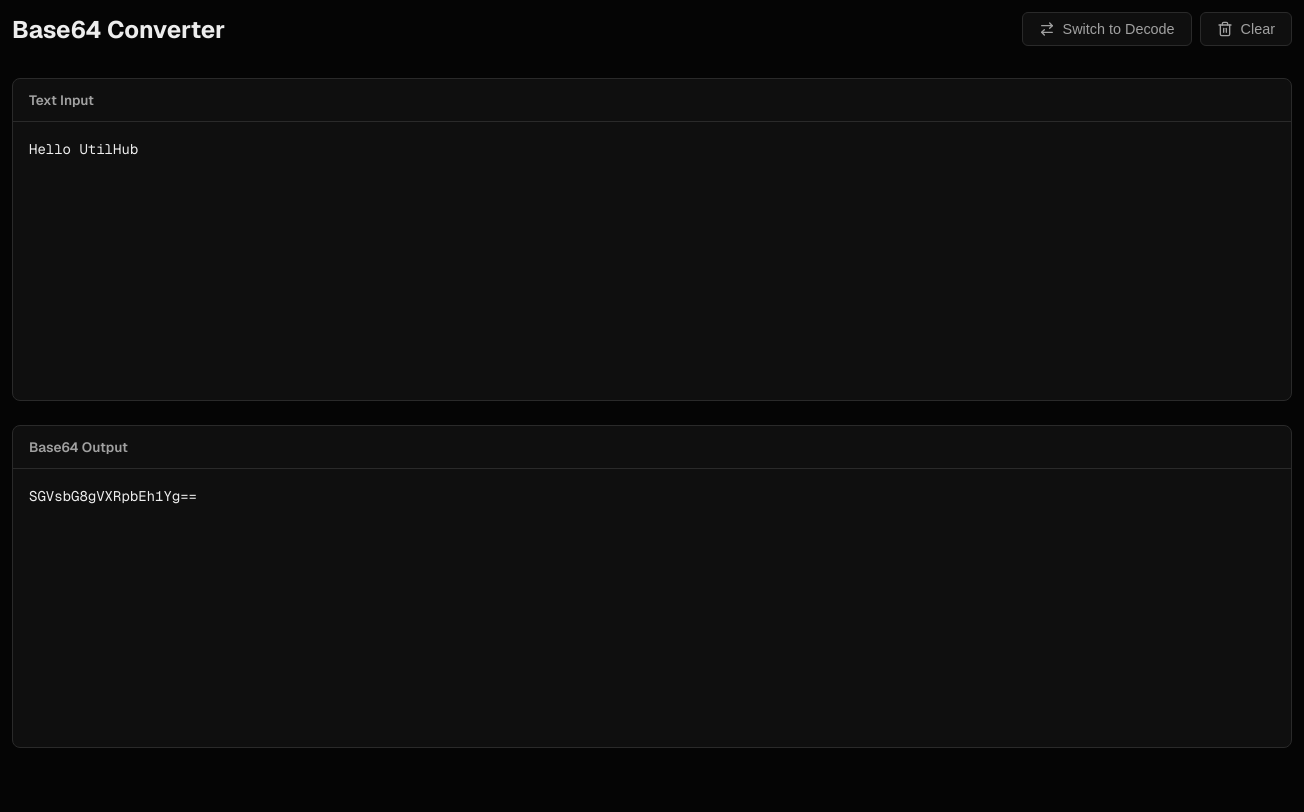
Scenario: Base64Tool › clears input and output on clear
Click the button titled "Clear" at (1246, 29), box [1200, 12, 1292, 46]
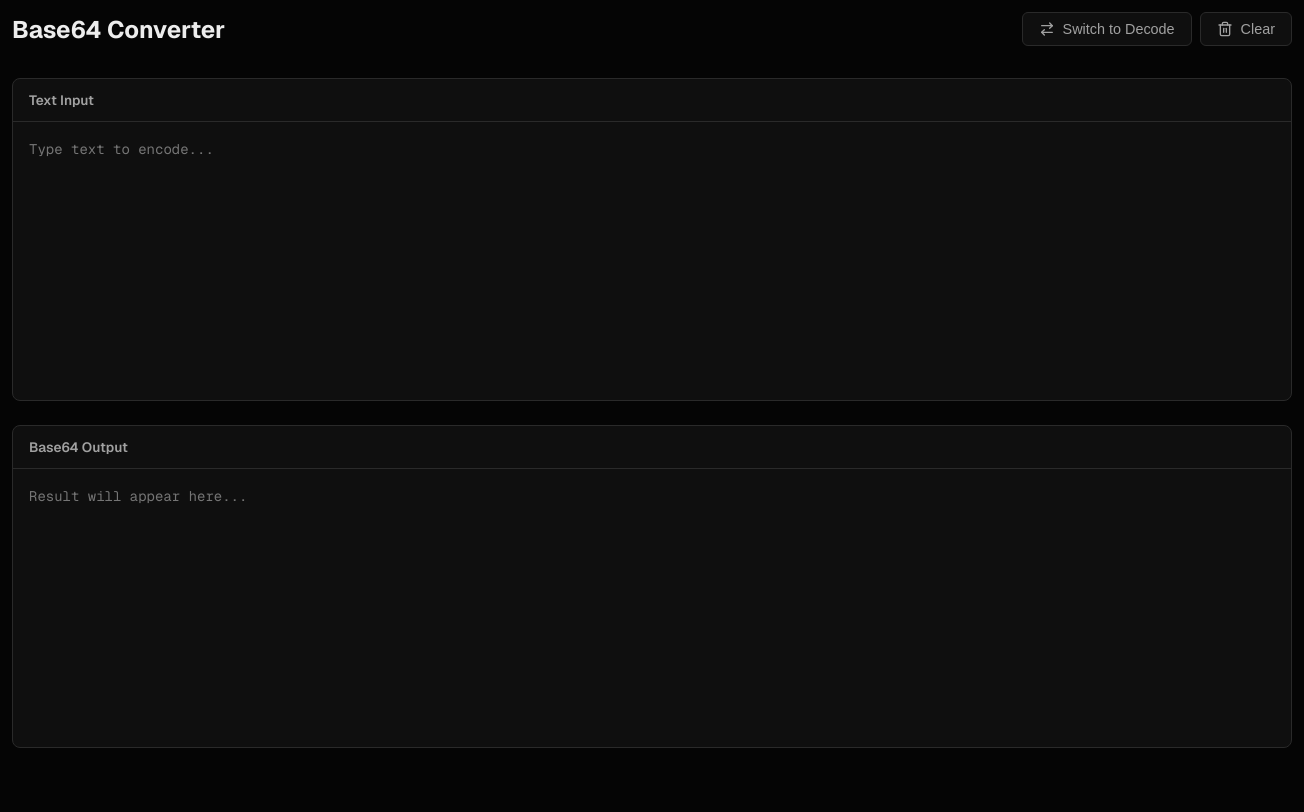
Now the text box with placeholder "Type text to encode..." is empty, box [13, 122, 1291, 400]
